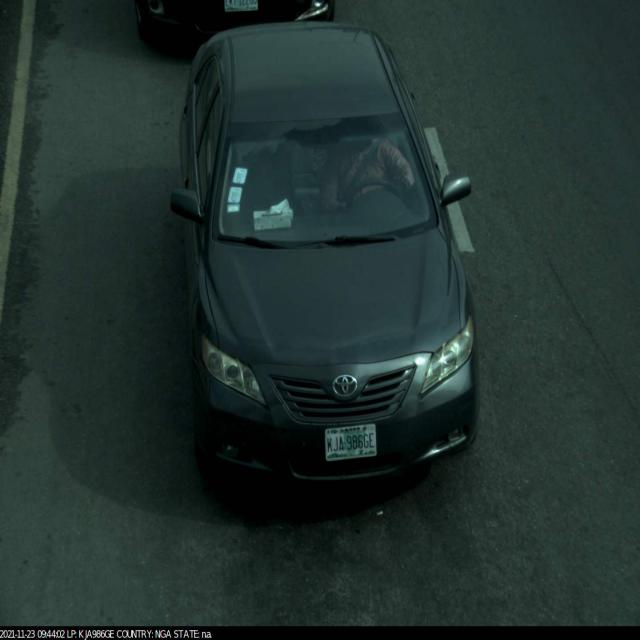windshield: (205, 110, 448, 256)
